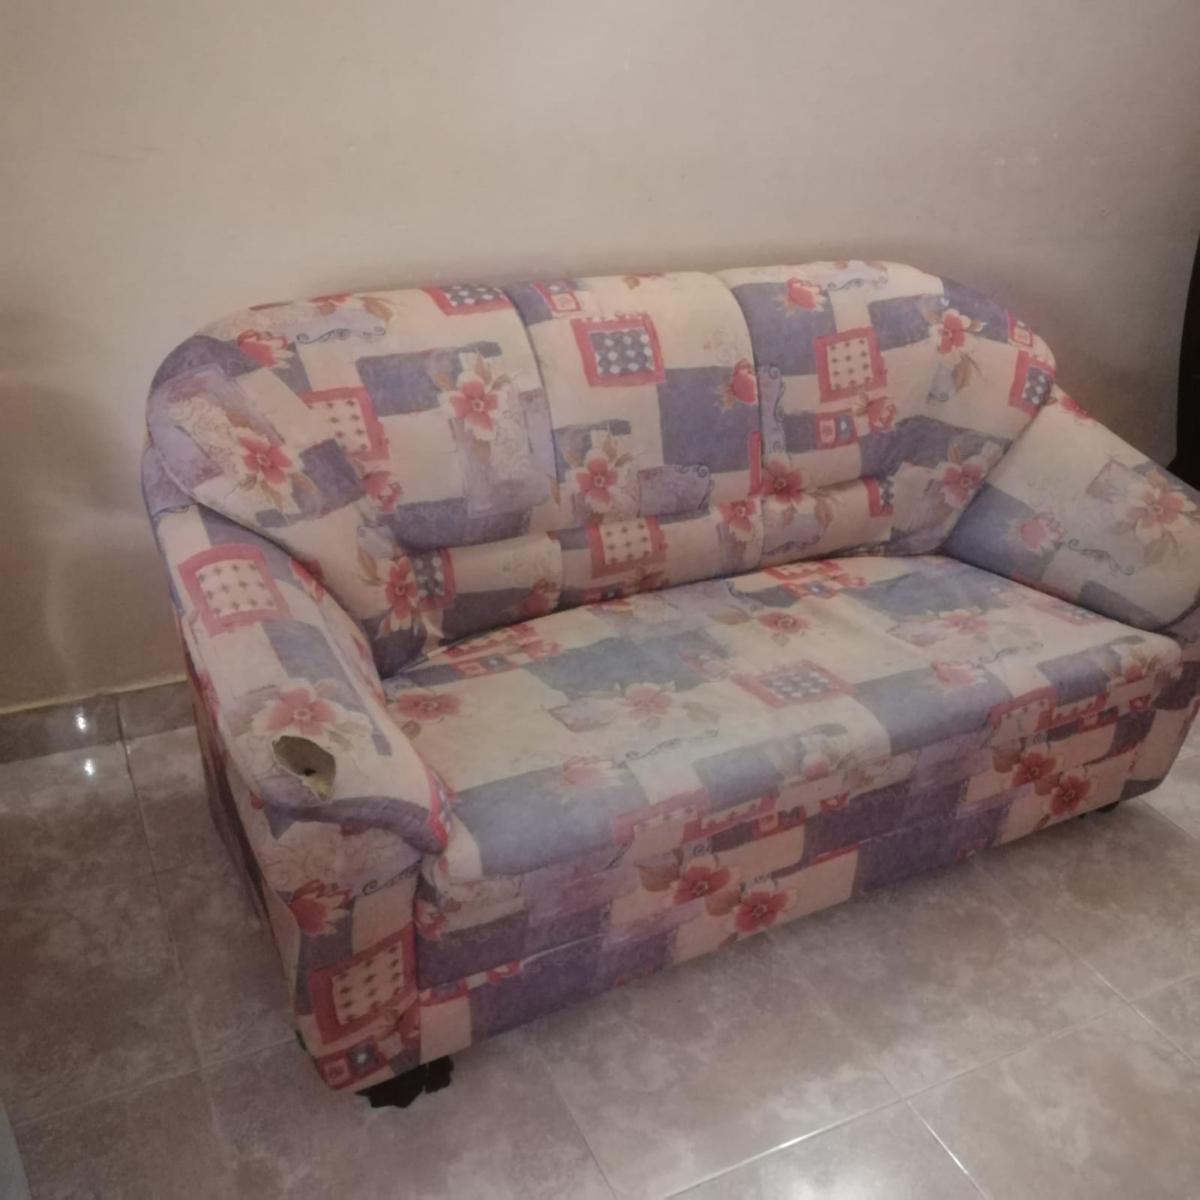Sofa: (133, 259, 1196, 1096)
